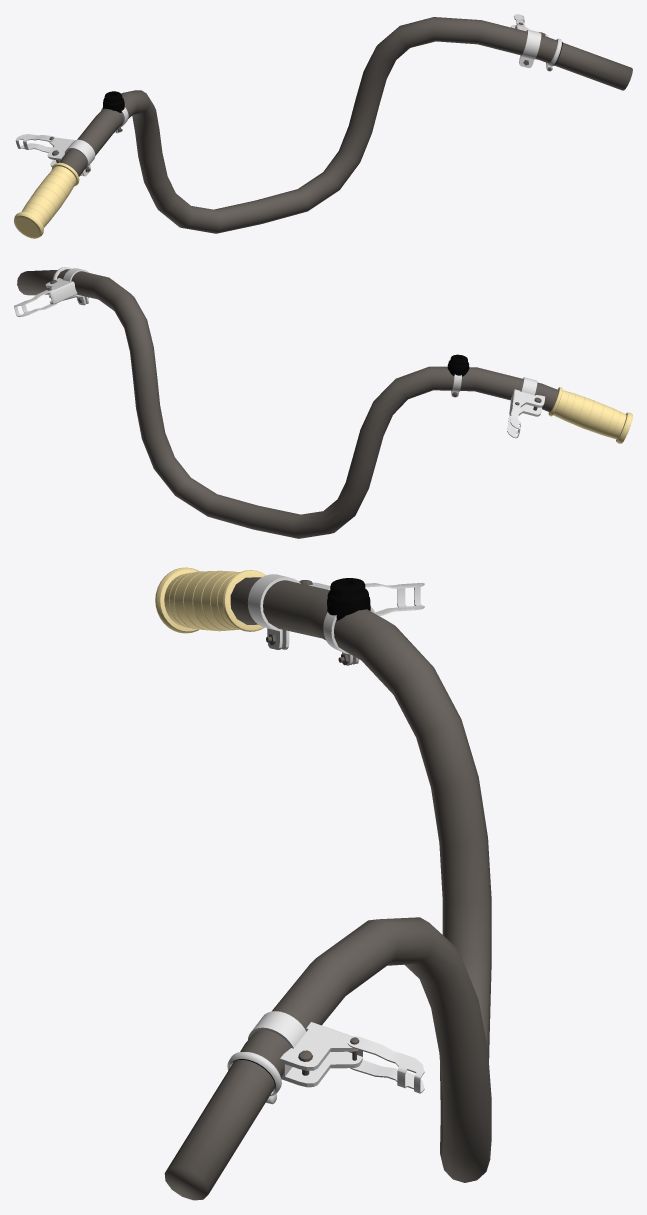
File: Steering.fbx
3 renders of one model, top to bottom at view 1: azimuth 30°, elevation 25°; view 2: azimuth 150°, elevation 25°; view 3: azimuth 270°, elevation 25°, orthographic. The views are drawn at different scales.
Parts seen in each view (by area): view 1: Steering; view 2: Steering; view 3: Steering.
Part boxes in pixels (x1,y1,x2,y2): Steering: (14,14,632,238); Steering: (14,267,632,538); Steering: (155,567,491,1200).
Bounding box in the file's own units: 800 × 240 × 190.
